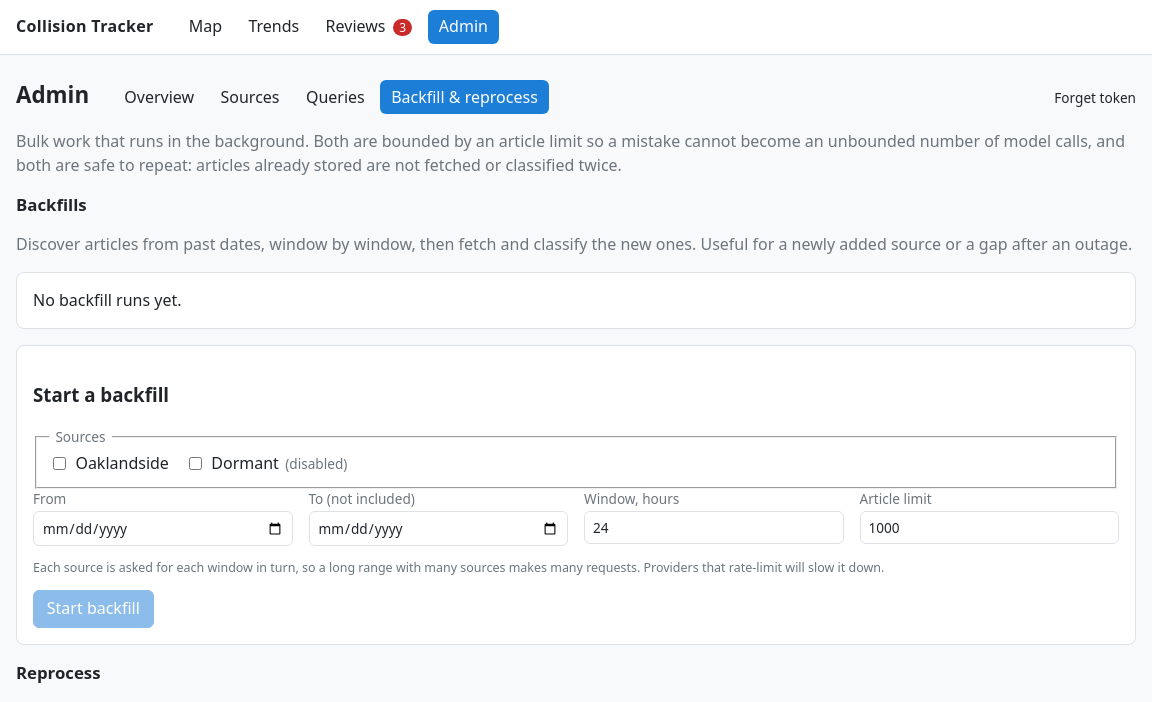
Test: Backfill and reprocess › starts a backfill with the chosen sources and dates
The width and height of the screenshot is (1152, 702).
Expected: the button "Start backfill" is disabled, [33, 590, 154, 628]
Click the checkbox labelled "Oaklandside": [60, 464] box [53, 457, 66, 470]
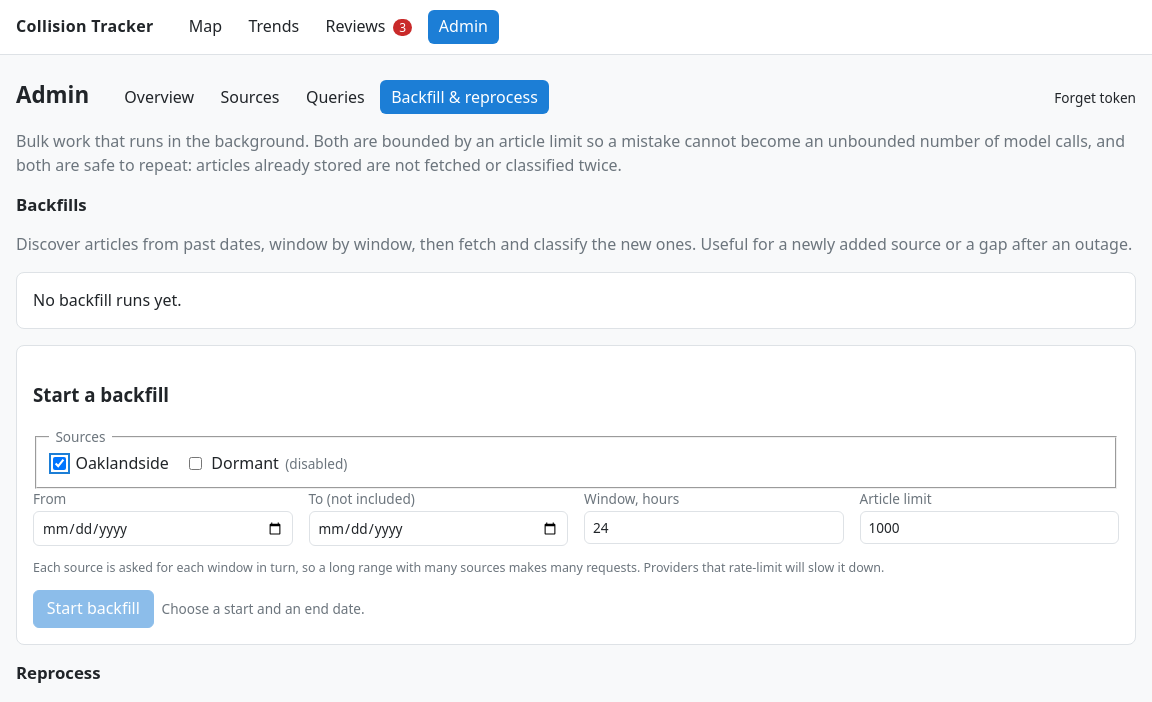
Expected: the checkbox labelled "Dormant (disabled)" is shown, [189, 457, 202, 470]
In the date field labelled "From": [163, 529] box [33, 512, 292, 546], type "2026-01-01"
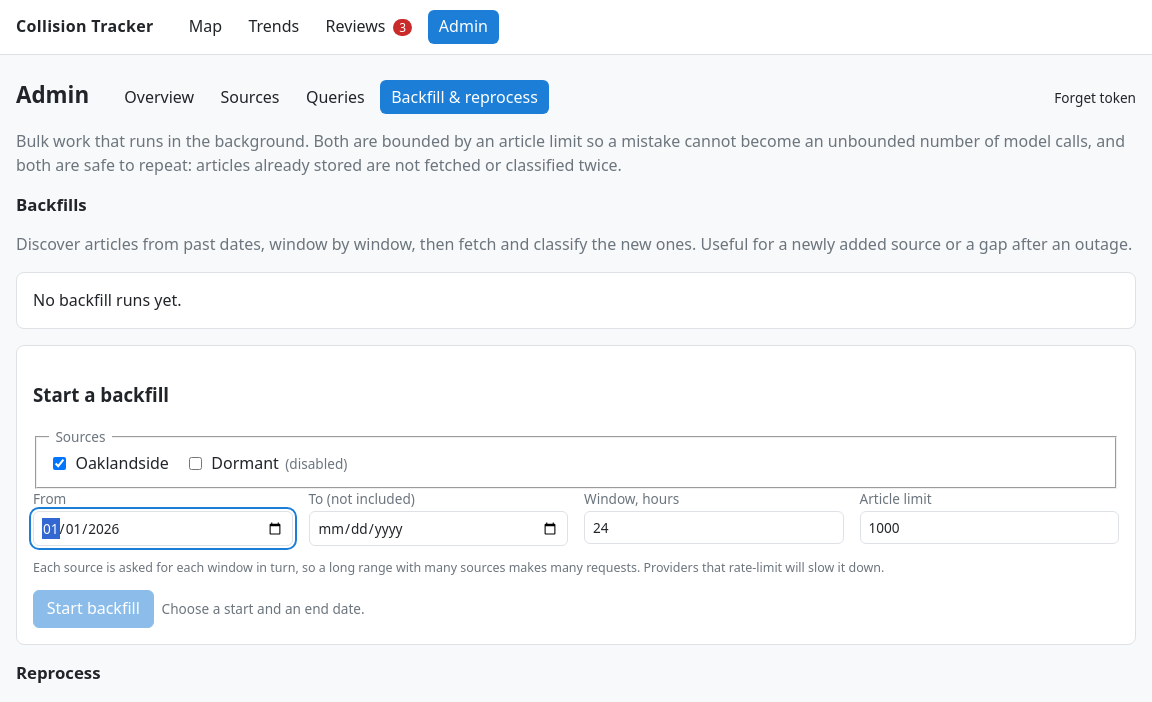
In the date field labelled "To (not included)": [438, 529] box [308, 512, 568, 546], type "2026-01-08"
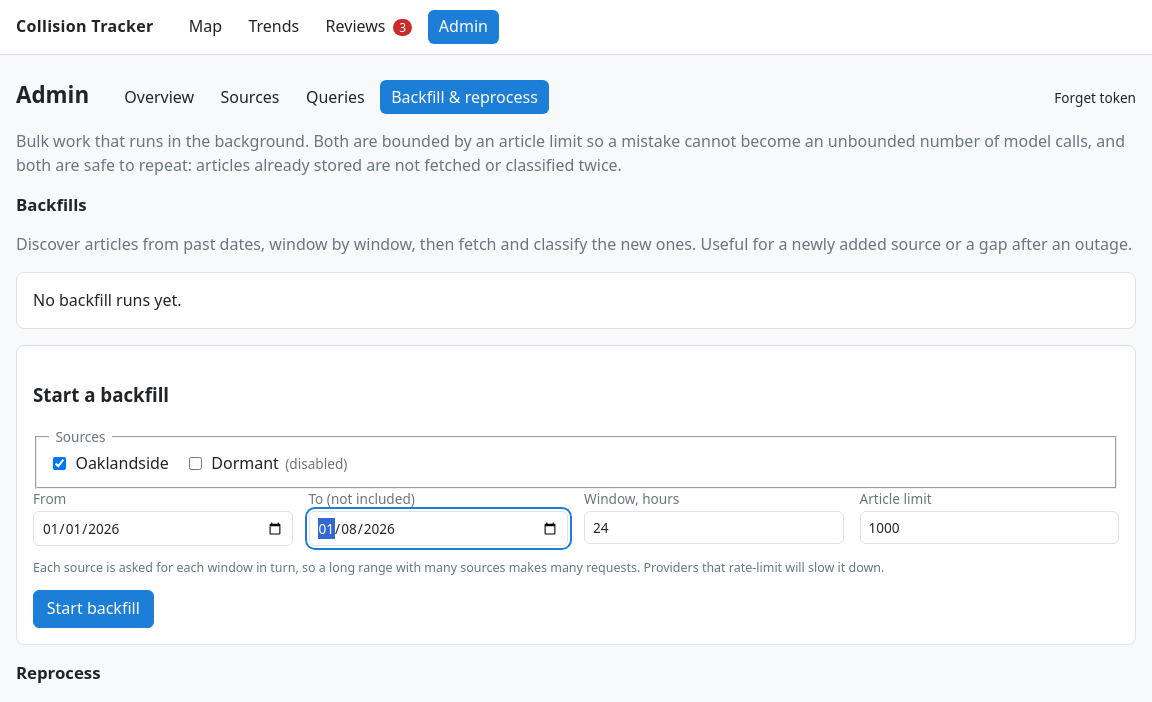
Expected: the button "Start backfill" is enabled
Click the button "Start backfill": [93, 609] box [33, 590, 154, 628]
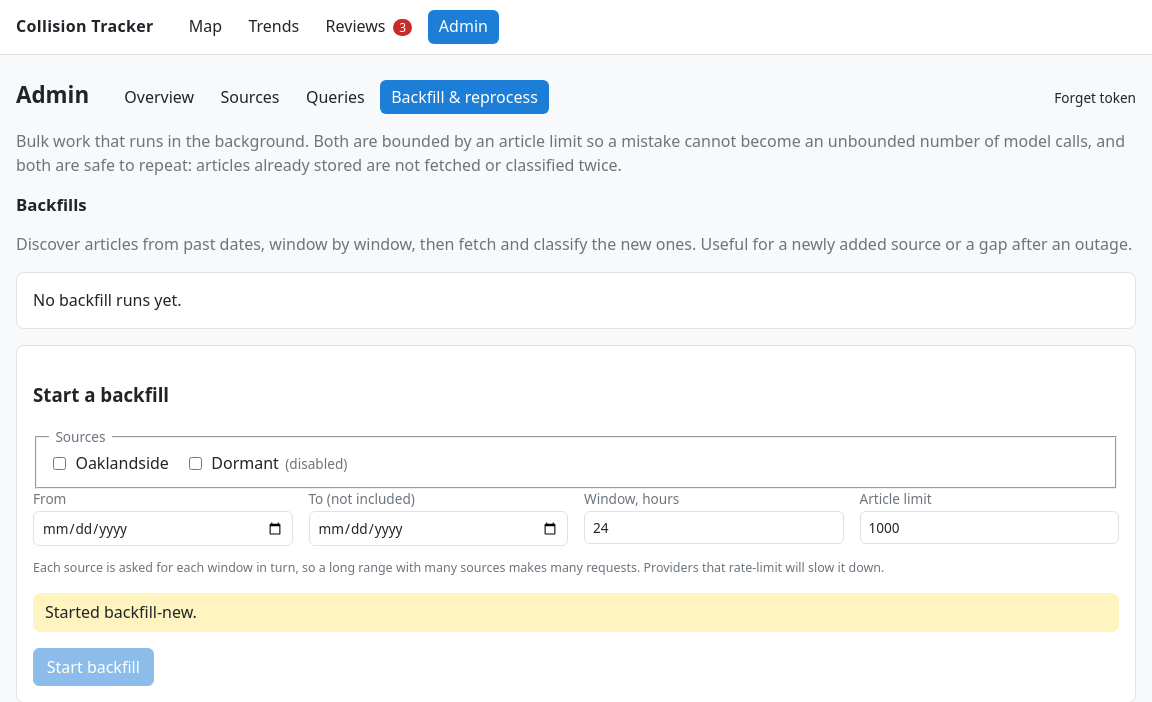
Expected: the text "Started backfill-new." is shown, [33, 593, 1119, 632]
